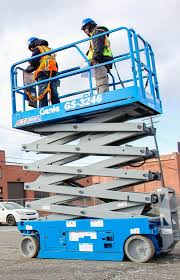Scissor Lift: (8, 26, 177, 265)
